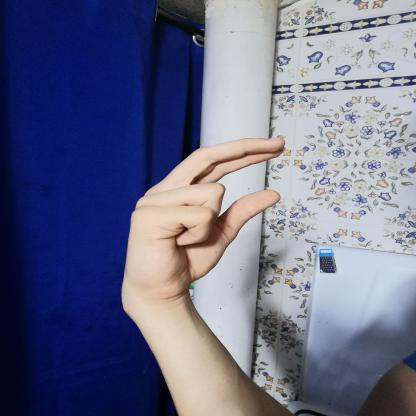DHELL: (113, 130, 295, 303)
